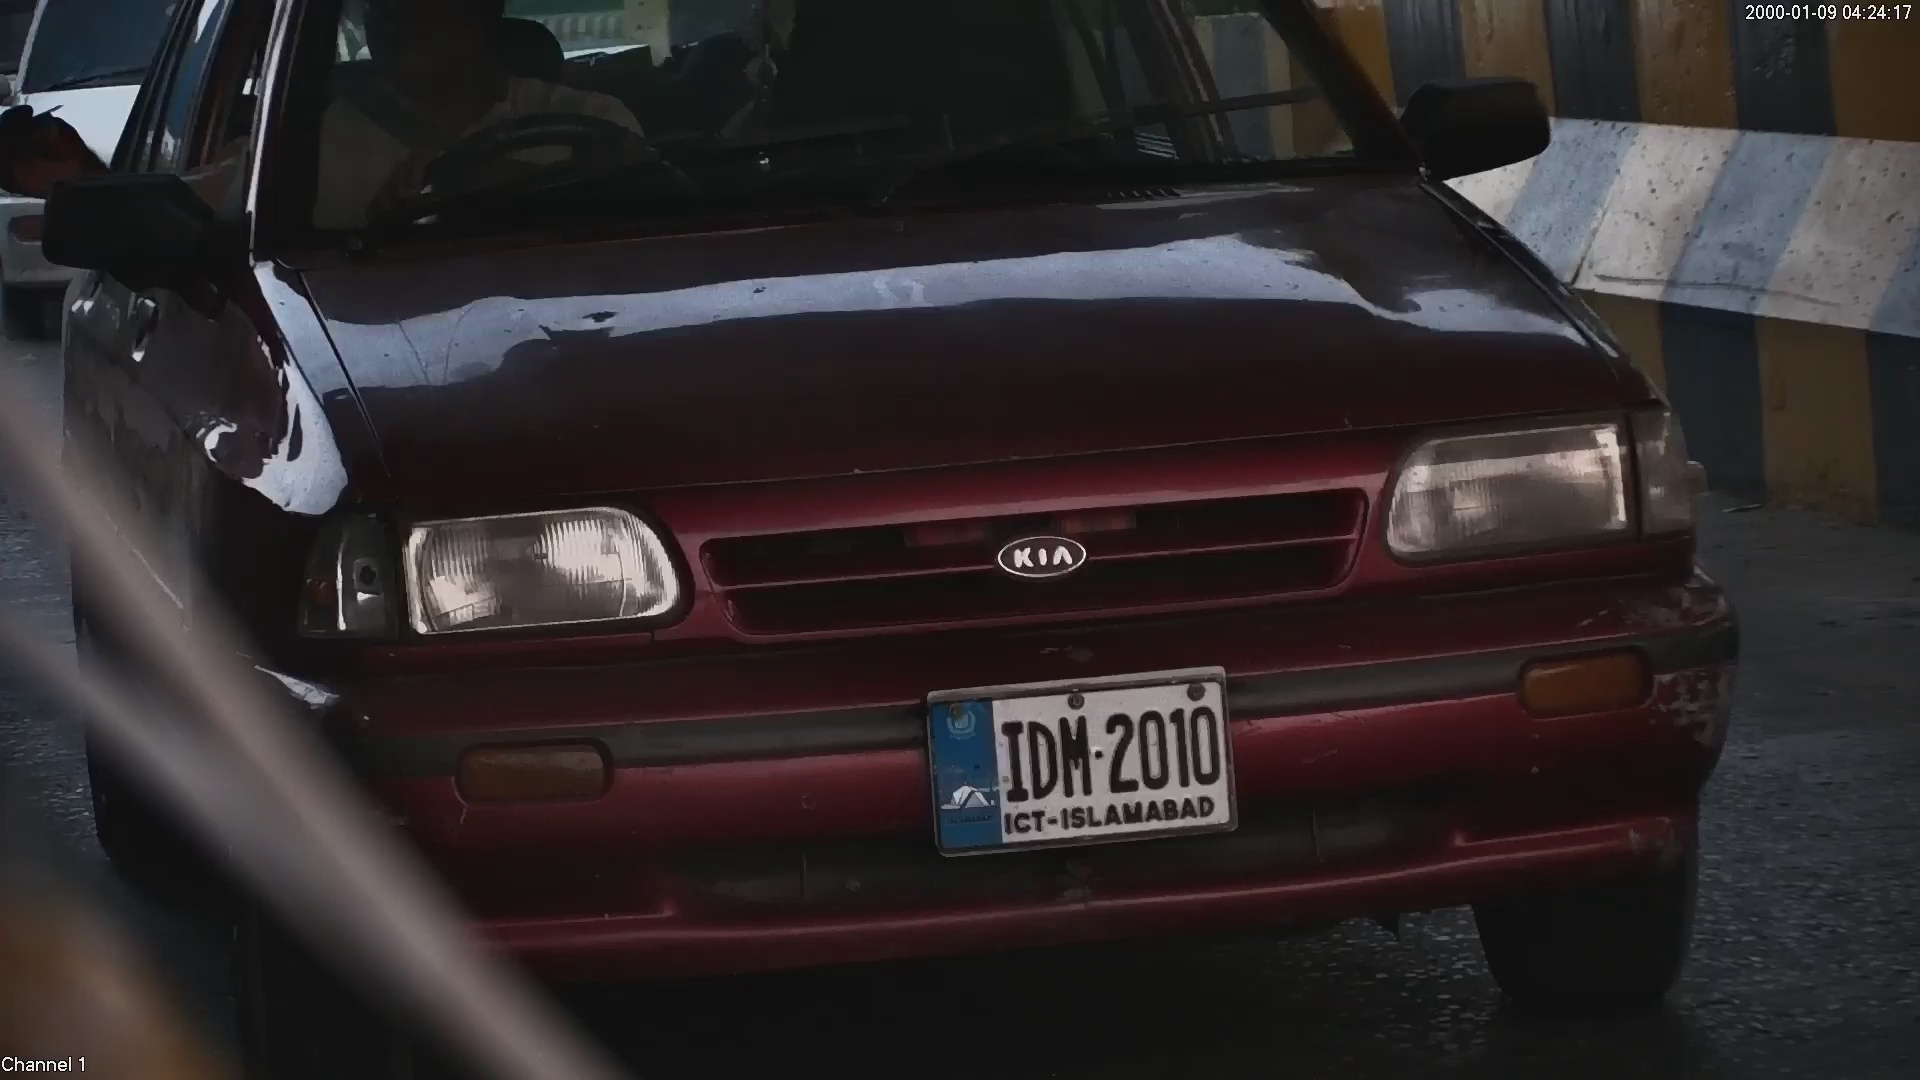Number_Plate: (913, 668, 1252, 853)
Undefined: (1387, 414, 1680, 562), (341, 509, 682, 636), (443, 731, 619, 807), (1510, 638, 1663, 723), (989, 516, 1093, 586)
